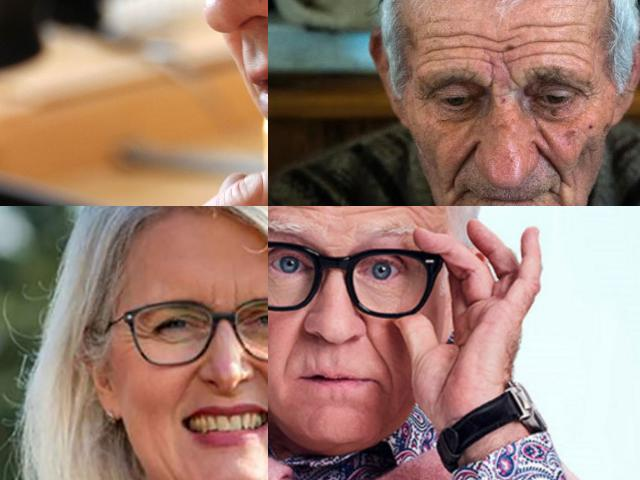crows_feet: (133, 321, 151, 343)
forehead: (426, 27, 466, 52), (540, 35, 574, 61), (472, 29, 502, 57), (420, 52, 468, 68), (546, 15, 584, 35), (508, 39, 536, 63), (512, 15, 540, 35), (409, 206, 436, 221), (329, 206, 365, 217), (291, 206, 322, 215), (372, 206, 405, 213)
frown_line: (500, 62, 522, 90), (484, 63, 500, 92), (227, 280, 240, 308), (207, 284, 217, 306)
gummy_smile: (367, 337, 397, 379), (451, 144, 475, 177), (538, 146, 564, 176), (278, 340, 298, 374), (183, 367, 201, 391), (254, 362, 268, 387)
